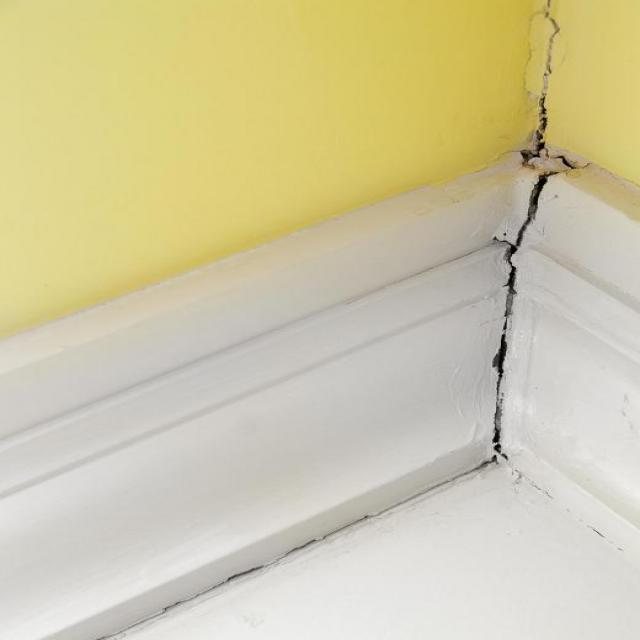Crack: (99, 464, 471, 640), (470, 175, 558, 478), (521, 0, 593, 174)
